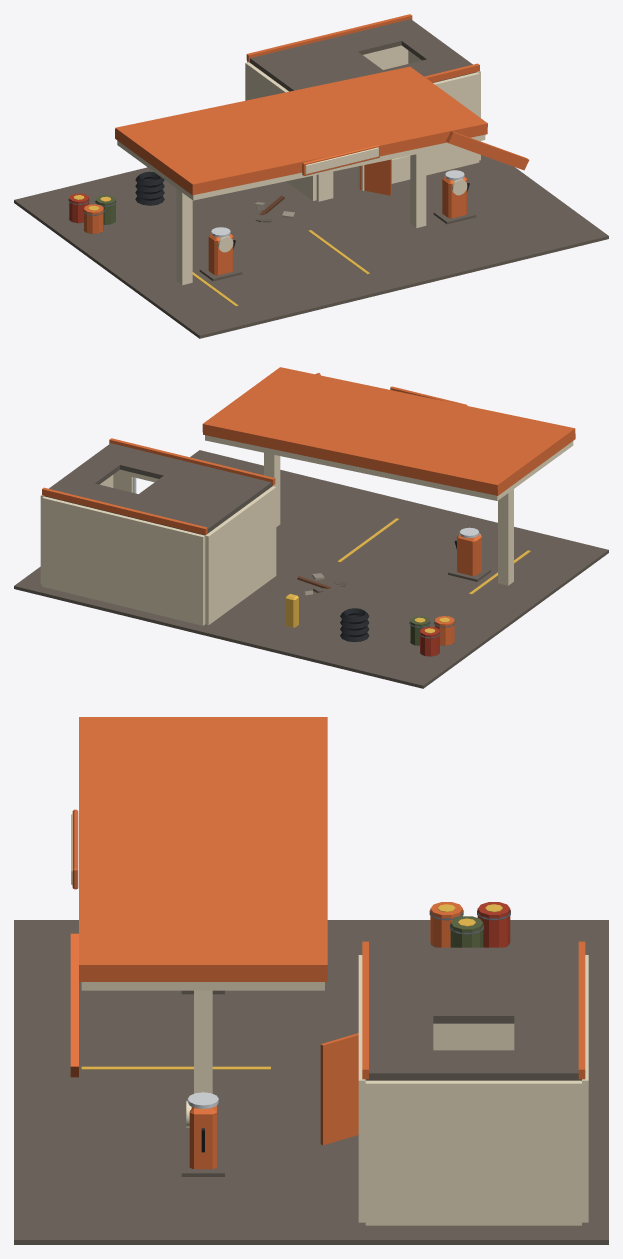
File: Bldg_GasStation.fbx
3 renders of one model, top to bottom at view 1: azimuth 30°, elevation 25°; view 2: azimuth 150°, elevation 25°; view 3: azimuth 270°, elevation 25°, orthographic. The views are drawn at different scales.
Visible parts, largest first — view 1: Apron, Decor, Roof, Canopy, Post1, Kiosk8, Post2, Kiosk4, Kiosk6, Pump1, Pump2, Sign1 (+4 smaller); view 2: Apron, Decor, Kiosk7, Roof, Kiosk8, Canopy, Post1, Pump1, Post2, Barrel3, Barrel1, AirPump; view 3: Apron, Decor, Kiosk9, Roof, Kiosk8, Canopy, Post2, Pump2, Kiosk7, Kiosk6, Barrel3, Barrel1 (+1 smaller).
Boxes of the visible parts, <box> form: Apron: <box>14,155,608,338</box>; Decor: <box>68,14,529,306</box>; Roof: <box>249,19,476,91</box>; Canopy: <box>117,134,485,200</box>; Post1: <box>176,188,192,285</box>; Kiosk8: <box>245,62,316,200</box>; Post2: <box>410,152,426,228</box>; Kiosk4: <box>391,146,457,183</box>; Kiosk6: <box>456,72,479,167</box>; Pump1: <box>208,233,233,275</box>; Pump2: <box>442,176,467,218</box>; Sign1: <box>305,147,378,174</box>; Apron: <box>14,450,608,688</box>; Decor: <box>42,367,575,656</box>; Kiosk7: <box>42,496,205,625</box>; Roof: <box>44,443,272,535</box>; Kiosk8: <box>205,486,276,625</box>; Canopy: <box>205,435,573,500</box>; Post1: <box>498,489,513,585</box>; Pump1: <box>457,534,481,575</box>; Post2: <box>264,453,280,526</box>; Barrel3: <box>420,626,439,656</box>; Barrel1: <box>434,616,454,645</box>; AirPump: <box>285,594,298,627</box>; Apron: <box>14,920,608,1244</box>; Decor: <box>70,717,585,1176</box>; Kiosk9: <box>365,1080,581,1225</box>; Roof: <box>365,947,581,1080</box>; Kiosk8: <box>433,1023,514,1050</box>; Canopy: <box>81,982,324,990</box>; Post2: <box>194,990,212,1093</box>; Pump2: <box>189,1106,216,1169</box>; Kiosk7: <box>582,955,588,1222</box>; Kiosk6: <box>358,1063,365,1222</box>; Barrel3: <box>477,902,510,947</box>; Barrel1: <box>430,902,462,947</box>.
Bounding box in the file's own units: 56 × 18.29 × 44.
